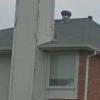Chimney: (57, 7, 74, 24)
